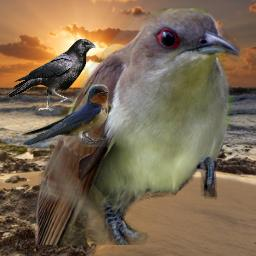Crow: (8, 38, 99, 112)
Cuckoo: (35, 8, 240, 245)
Swallow: (5, 84, 114, 147)
